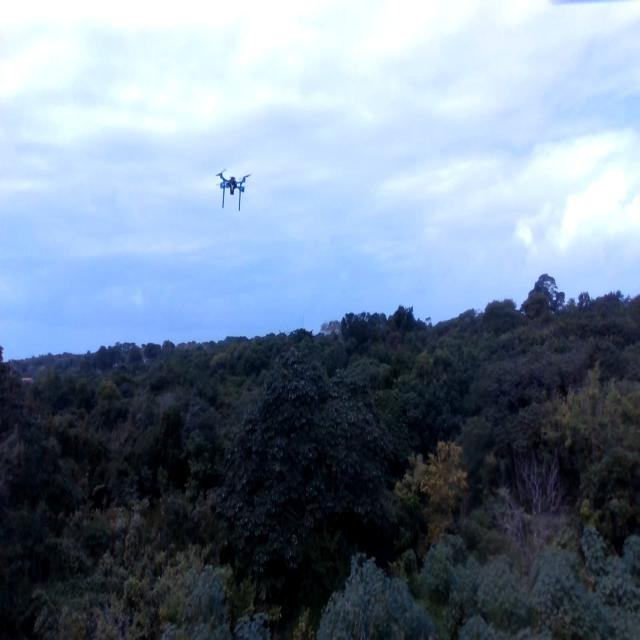-uav-: (213, 157, 254, 230)
